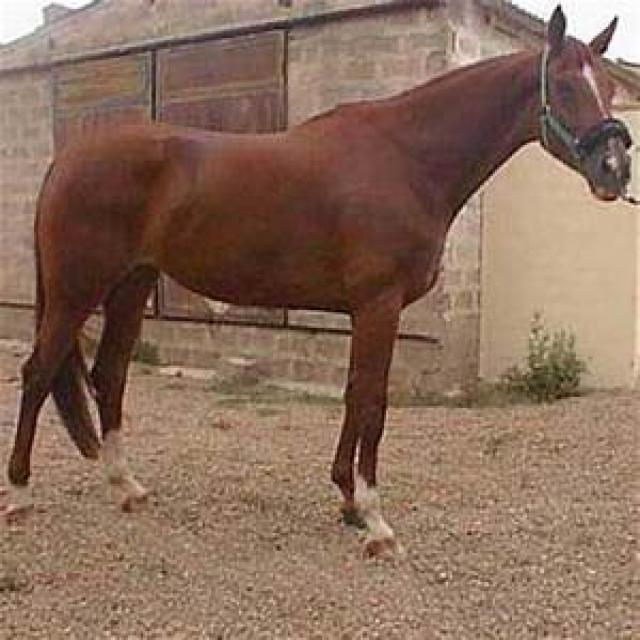horse: (11, 10, 631, 555)
